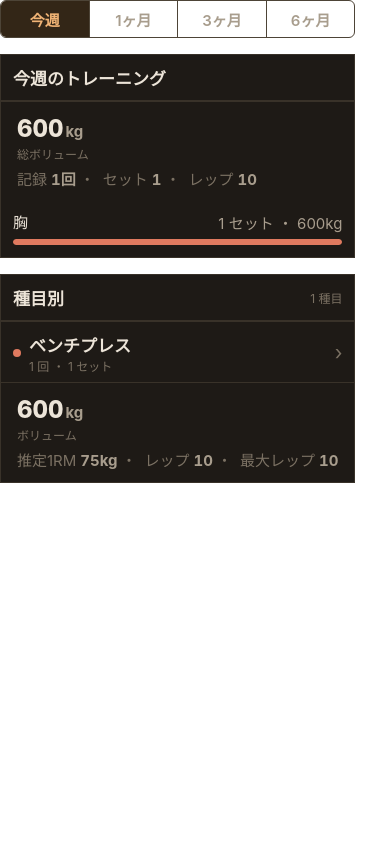
推移グラフ › 2点以上あれば出す
// 今週の起点は曜日で動くので、1ヶ月へ切り替えてから見る（1点＝1日）。
Click the text "1ヶ月" at [133, 19], box [115,8,152,30]
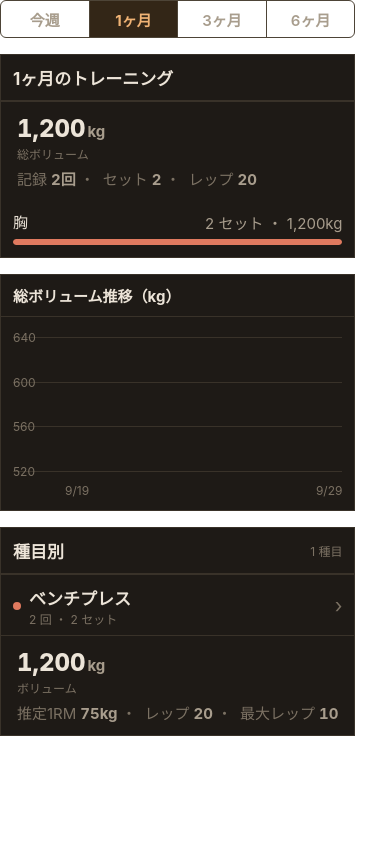
Expected: the text "総ボリューム推移（kg）" is shown, [13,287,180,306]
